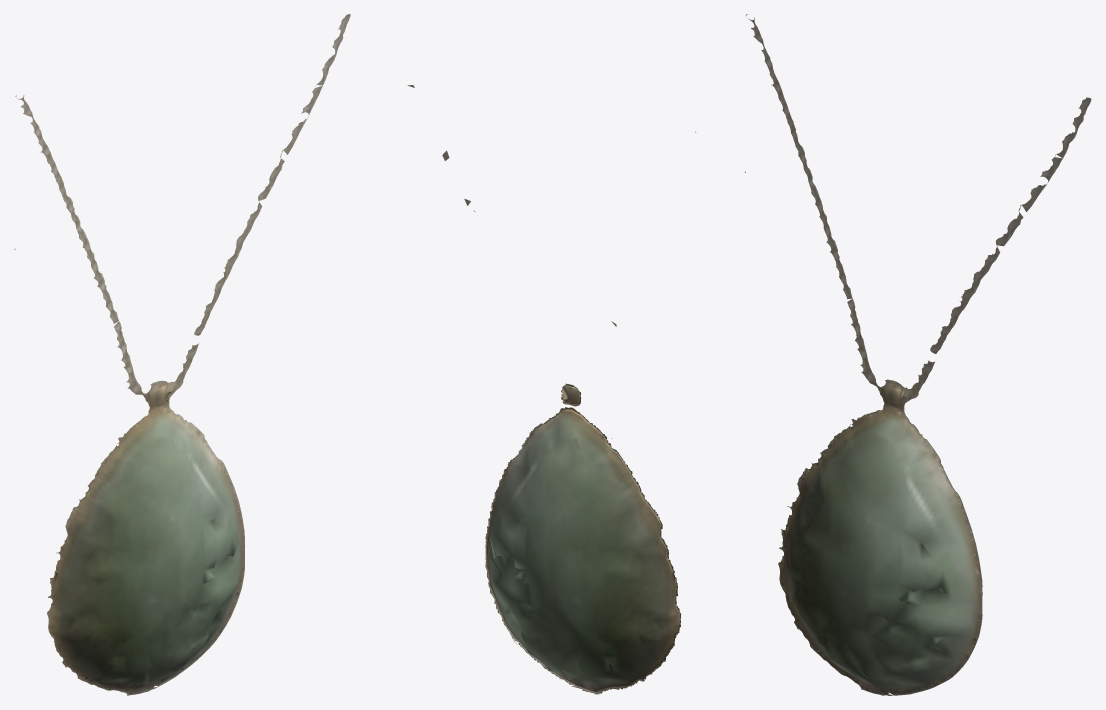
File: necklace_889283ed.glb
3 renders of one model, left to right at view 1: azimuth 30°, elevation 25°; view 2: azimuth 150°, elevation 25°; view 3: azimuth 330°, elevation 25°, orthographic. The views are drawn at different scales.
Parts seen in each view (by area): view 1: obj_002_obj.004_0; view 2: obj_002_obj.004_0; view 3: obj_002_obj.004_0.
Boxes of the visible parts, x1,y1,x2,y2 form: obj_002_obj.004_0: (14,14,350,695); obj_002_obj.004_0: (407,85,695,694); obj_002_obj.004_0: (745,14,1091,695).
Bounding box in the file's own units: 44.38 × 79.25 × 10.74.
1 material, 1 textured.
